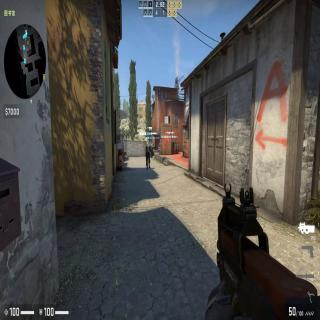CT-Body: (145, 140, 151, 170)
CT-Head: (146, 140, 150, 145), (152, 142, 154, 146)
